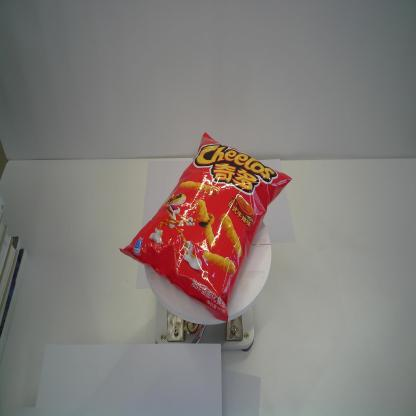Puffed Food: (118, 130, 294, 325)
